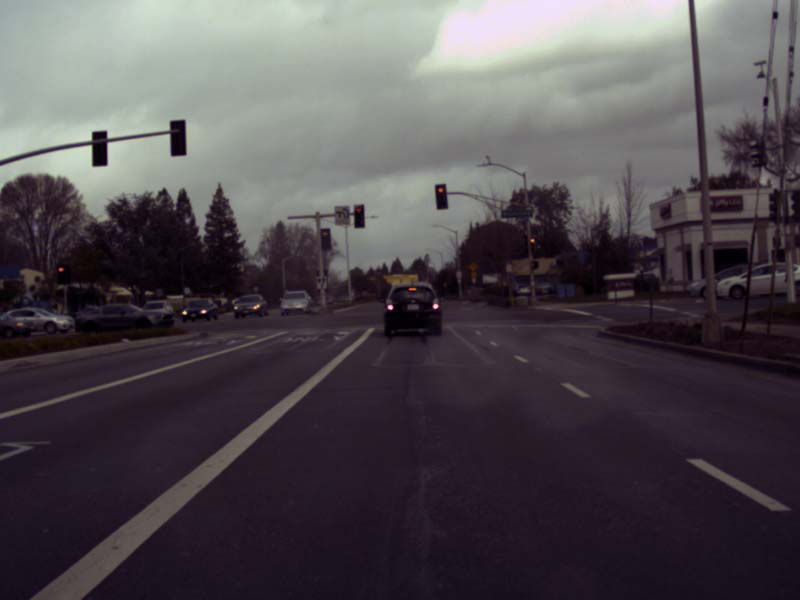Red: (434, 184, 447, 208), (353, 204, 364, 227), (320, 228, 330, 248), (58, 266, 64, 282), (530, 238, 534, 252)
